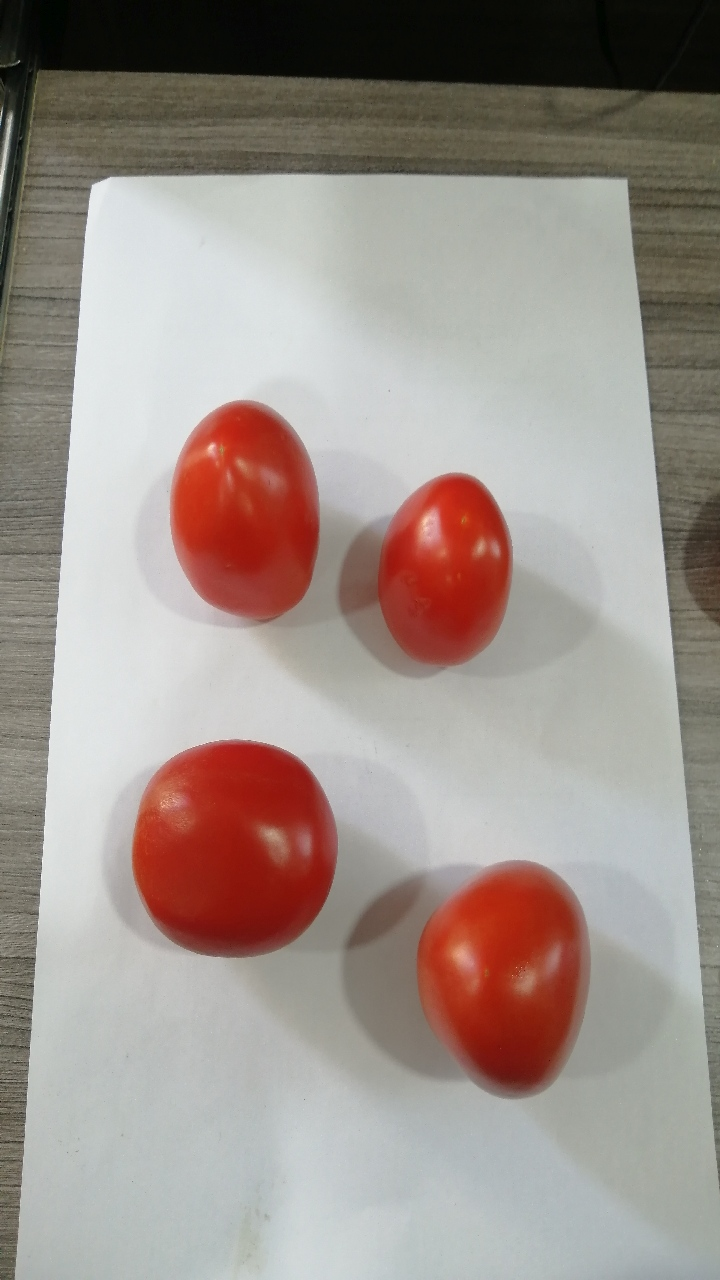tomateRojo: (375, 831, 611, 1117), (121, 726, 341, 979), (335, 452, 543, 695), (160, 374, 332, 639)
